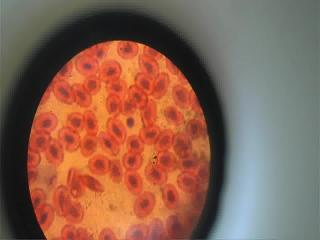cell: (140, 99, 159, 125), (164, 106, 187, 126), (61, 126, 80, 150), (70, 170, 88, 195), (33, 113, 59, 130), (52, 81, 72, 103), (137, 56, 160, 75), (174, 84, 192, 108), (46, 140, 64, 164), (100, 132, 120, 153), (91, 155, 111, 176), (136, 198, 158, 217), (54, 186, 70, 212), (29, 132, 52, 150), (124, 222, 147, 240), (108, 119, 128, 139), (83, 111, 101, 132), (126, 172, 144, 193), (179, 173, 200, 191), (154, 75, 170, 98), (68, 199, 84, 222), (64, 110, 84, 128), (157, 153, 177, 171), (118, 42, 139, 59), (181, 152, 202, 169), (38, 206, 54, 228), (131, 86, 147, 107), (100, 64, 122, 79), (74, 85, 89, 107), (106, 78, 128, 93), (148, 164, 166, 182), (78, 56, 97, 73), (84, 77, 101, 96), (81, 136, 98, 155), (104, 96, 120, 116), (163, 186, 179, 206), (30, 188, 44, 209), (110, 161, 123, 183), (124, 152, 141, 168), (160, 130, 172, 152), (142, 128, 159, 143), (123, 98, 137, 116), (138, 74, 152, 92), (128, 135, 142, 151)
